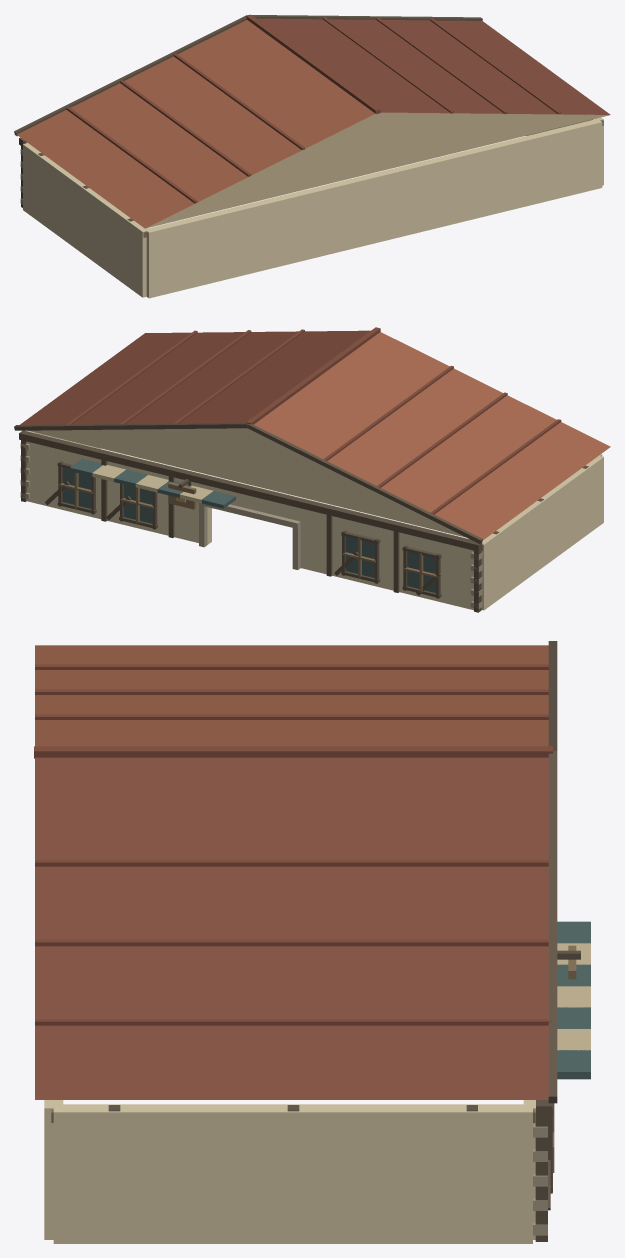
Rendered from WalkTown_Shop_Cover.fbx.
3 views of the same model, one above another, from view 1: azimuth 30°, elevation 25°; view 2: azimuth 150°, elevation 25°; view 3: azimuth 270°, elevation 25° (orthographic). The views are drawn at different scales.
Visible parts, largest first — view 1: WalkTown_Shop_Cover; view 2: WalkTown_Shop_Cover; view 3: WalkTown_Shop_Cover.
Part boxes in pixels (x1=…): WalkTown_Shop_Cover: x1=14, y1=14, x2=610, y2=298; WalkTown_Shop_Cover: x1=14, y1=327, x2=610, y2=612; WalkTown_Shop_Cover: x1=34, y1=641, x2=590, y2=1243.
Size of the model in its own units: 15.97 by 4.43 by 8.25.
